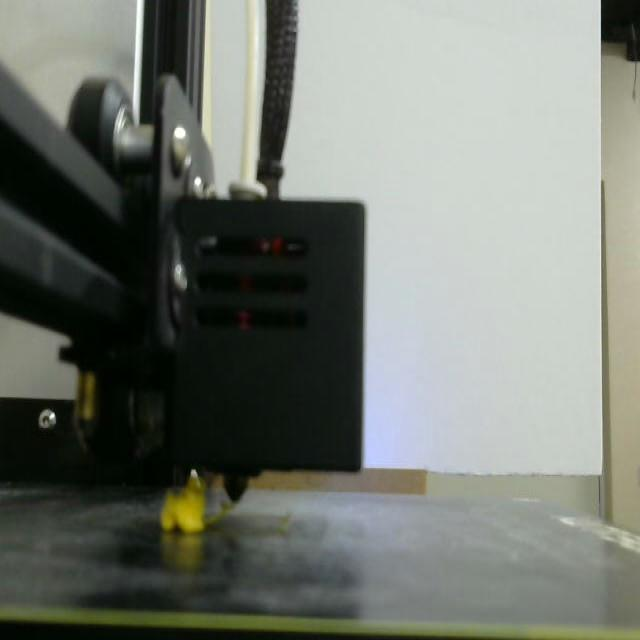spaghetti: (161, 472, 206, 532)
